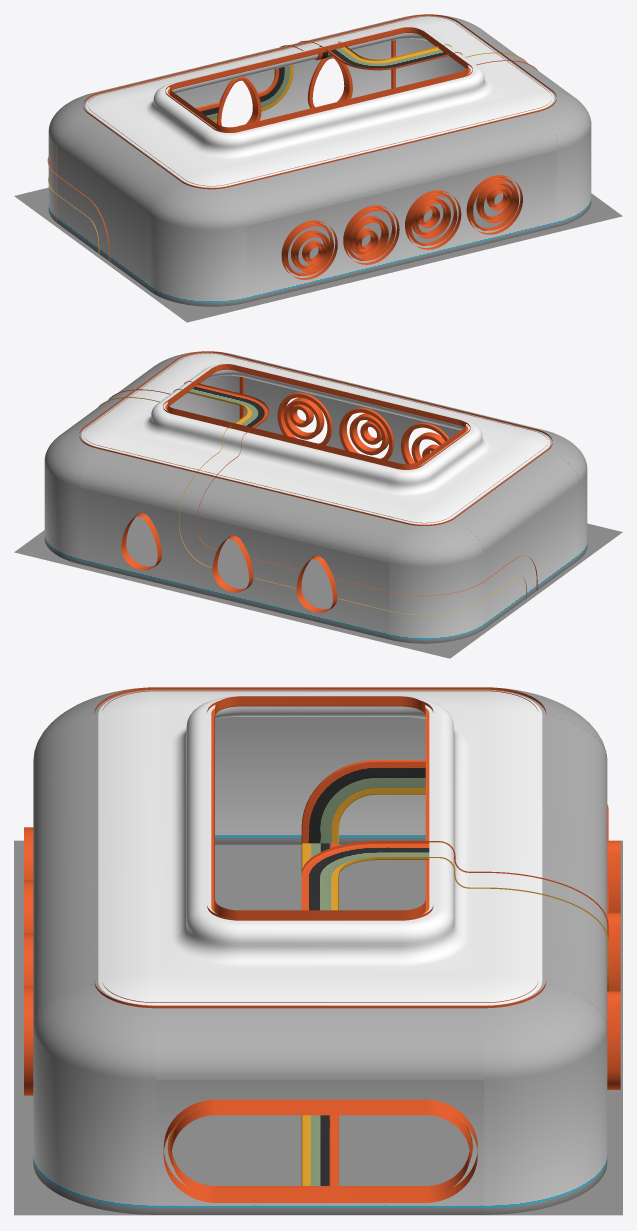
Rendered from archi.fbx.
3 renders of one model, top to bottom at view 1: azimuth 30°, elevation 25°; view 2: azimuth 150°, elevation 25°; view 3: azimuth 270°, elevation 25°, orthographic. The views are drawn at different scales.
Parts seen in each view (by area): view 1: plafond, wall_circles, wall_back, dividers_circle, ground, wall_egg, wall_corner_002, divider_04, bande_deco, divider_01, wall_corner_001, divider_06; view 2: wall_egg, plafond, wall_back, ground, dividers_circle, wall_corner_001, divider_04, wall_circles, divider_01, bande_deco, wall_corner_002, divider_06; view 3: plafond, divider_06, ground, wall_corner_002, wall_corner_001, wall_back, wall_egg, wall_circles, bande_deco, divider_07, divider_04, divider_01 (+1 smaller).
Part boxes in pixels (x1,y1,x2,y2): plafond: (85, 16, 554, 187); wall_circles: (228, 110, 556, 302); wall_back: (48, 92, 246, 306); dividers_circle: (281, 175, 522, 279); ground: (14, 181, 622, 322); wall_egg: (95, 17, 410, 126); wall_corner_002: (539, 91, 591, 226); divider_04: (165, 27, 472, 132); bande_deco: (47, 40, 537, 261); divider_01: (83, 14, 556, 189); wall_corner_001: (396, 14, 477, 87); divider_06: (457, 23, 573, 96); wall_egg: (79, 447, 407, 639); plafond: (81, 353, 550, 524); wall_back: (389, 429, 587, 643); ground: (14, 516, 622, 658); dividers_circle: (277, 392, 449, 464); wall_corner_001: (44, 428, 97, 563); divider_04: (163, 364, 470, 469); wall_circles: (224, 354, 541, 464); divider_01: (79, 351, 552, 525); bande_deco: (98, 381, 537, 614); wall_corner_002: (158, 351, 239, 422); divider_06: (62, 360, 178, 433); plafond: (98, 690, 542, 1005); divider_06: (156, 1008, 484, 1214); ground: (14, 840, 622, 1215); wall_corner_002: (33, 981, 156, 1214); wall_corner_001: (484, 981, 607, 1214); wall_back: (34, 688, 606, 844); wall_egg: (542, 715, 620, 1089); wall_circles: (33, 715, 98, 1024); bande_deco: (301, 760, 608, 1185); divider_07: (163, 1099, 477, 1202); divider_04: (207, 696, 433, 920); divider_01: (94, 687, 546, 1008).
Bounding box in the file's own units: 1014 × 280 × 682.
2 materials, 1 textured.
